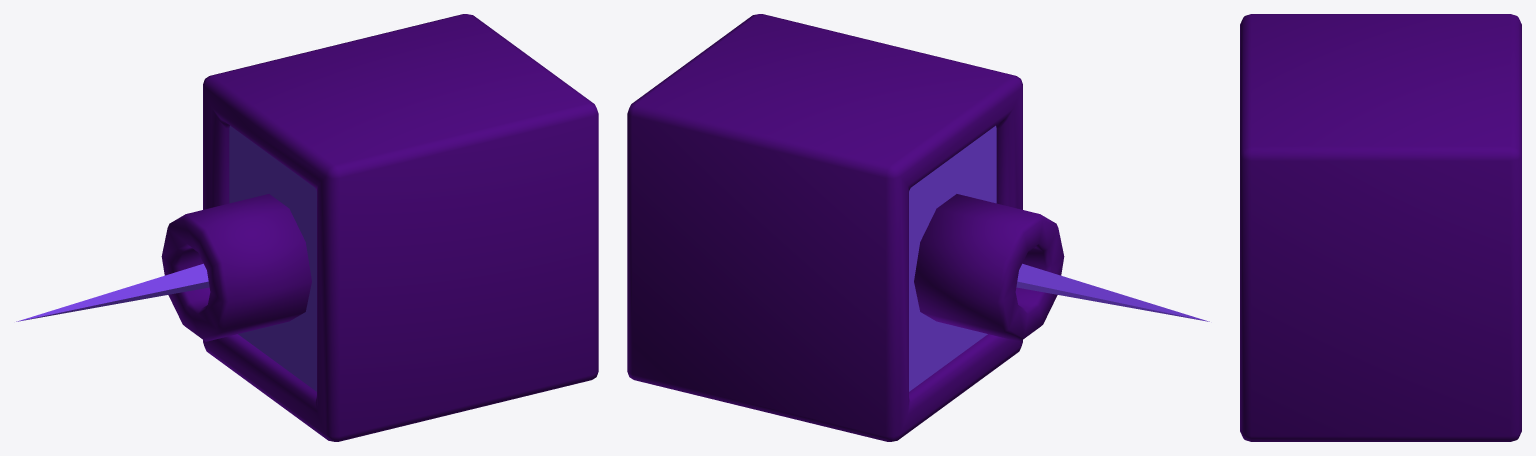
File: shooting_violet.fbx
The picture shows the model from 3 angles, left to right: view 1: azimuth 30°, elevation 25°; view 2: azimuth 150°, elevation 25°; view 3: azimuth 270°, elevation 25°; orthographic projection. The views are drawn at different scales.
Visible parts, largest first — view 1: shooting_violet_main, shooting_violet_serve; view 2: shooting_violet_main, shooting_violet_serve; view 3: shooting_violet_main.
Part boxes in pixels (x1,y1,x2,y2): shooting_violet_main: (161,14,598,441); shooting_violet_serve: (16,263,209,321); shooting_violet_main: (627,14,1064,441); shooting_violet_serve: (1016,263,1209,321); shooting_violet_main: (1240,14,1521,441).
Size of the model in its own units: 0.4573 by 0.2318 by 0.2004.
